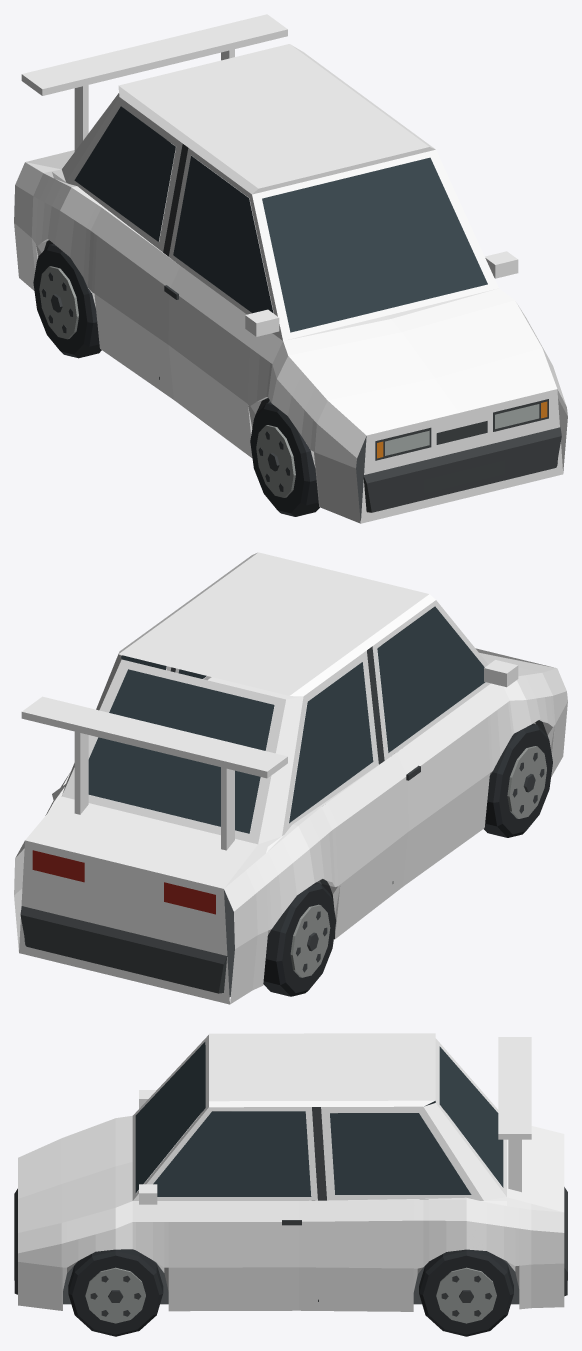
Rendered from hozuki_rindo_corrida.glb.
3 renders of one model, top to bottom at view 1: azimuth 30°, elevation 25°; view 2: azimuth 150°, elevation 25°; view 3: azimuth 270°, elevation 25°, orthographic. The views are drawn at different scales.
Visible parts, largest first — view 1: hozuki_rindo_corrida; view 2: hozuki_rindo_corrida; view 3: hozuki_rindo_corrida.
Part boxes in pixels (x1,y1,x2,y2): hozuki_rindo_corrida: (14,14,567,523); hozuki_rindo_corrida: (14,552,567,1004); hozuki_rindo_corrida: (14,1033,567,1336).
Size of the model in its own units: 1.6 by 1.61 by 3.63.
Materials: 8 (1 with a texture image).
